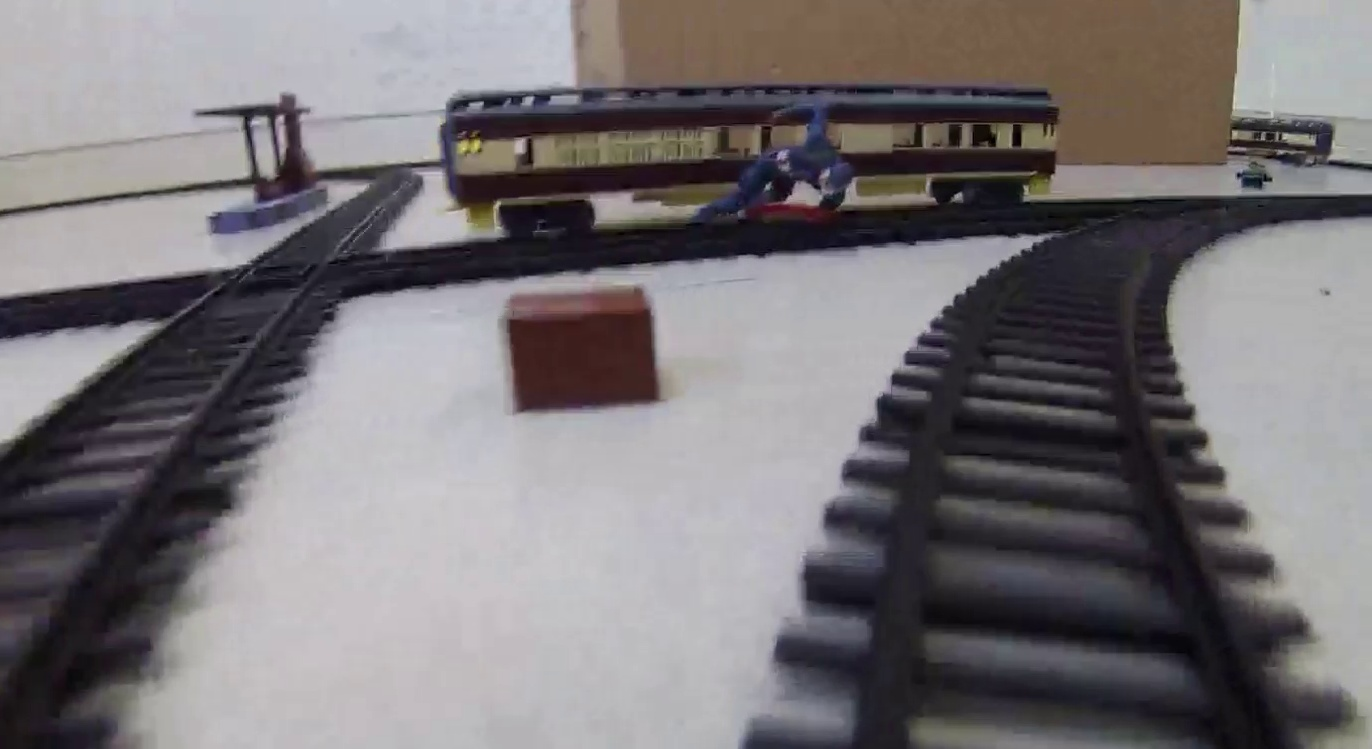box: (493, 286, 674, 421)
people: (695, 103, 854, 218)
